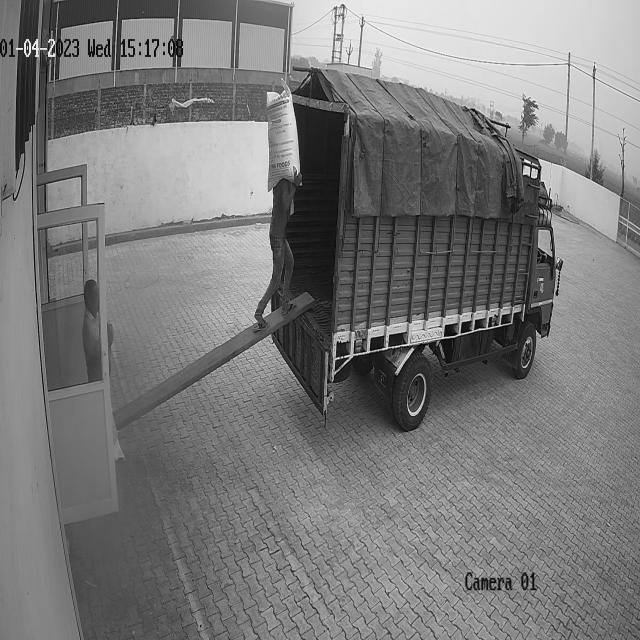sack: (266, 78, 300, 192)
